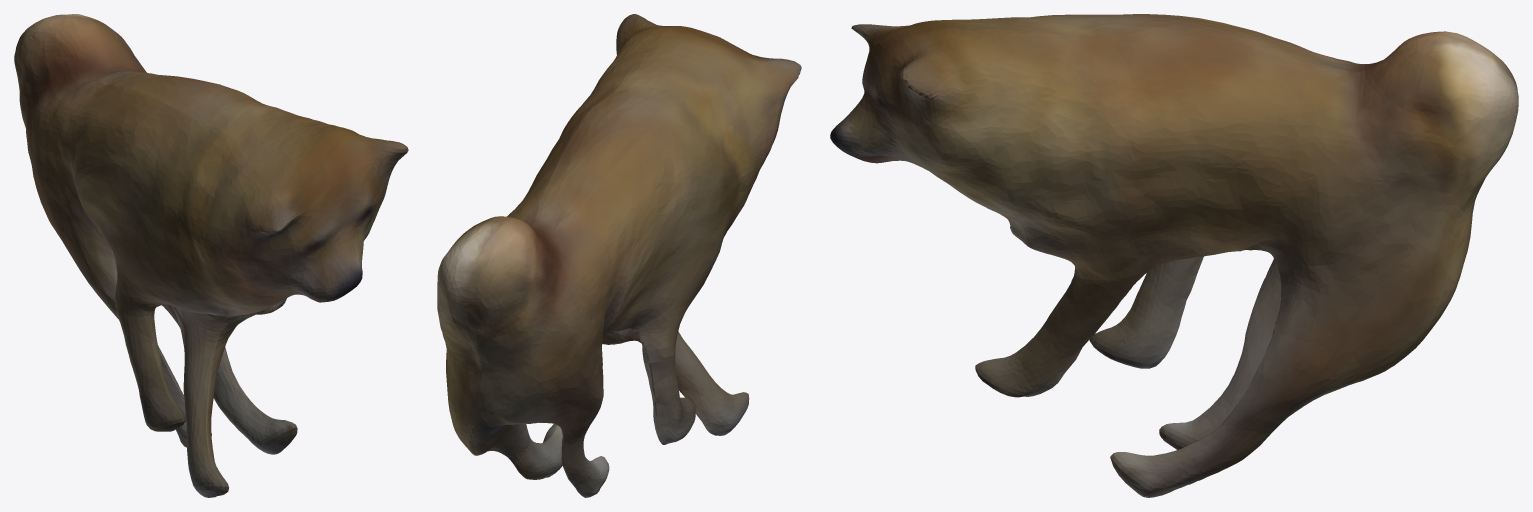
Rendered from shiba-haru-1002-mesh-00000.obj.
3 views of the same model, side by side, from view 1: azimuth 30°, elevation 25°; view 2: azimuth 150°, elevation 25°; view 3: azimuth 270°, elevation 25° (orthographic). The views are drawn at different scales.
Bounding box in the file's own units: 0.0329 × 0.0708 × 0.0977.
